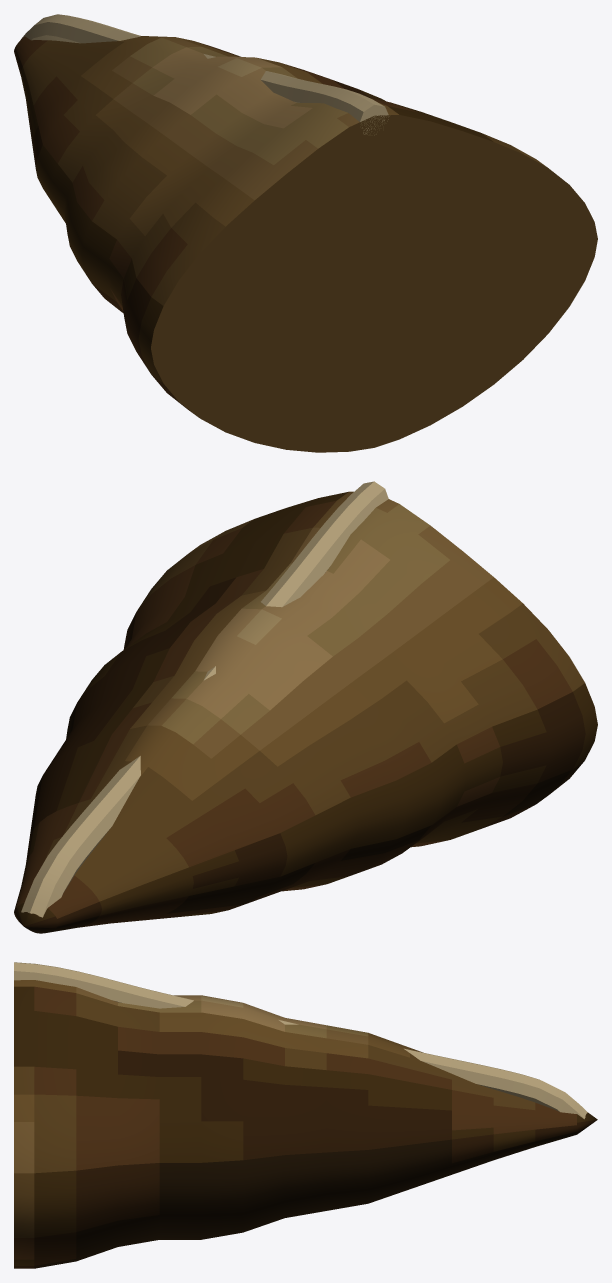
File: gyges_worm_head_tip.glb
3 renders of one model, top to bottom at view 1: azimuth 30°, elevation 25°; view 2: azimuth 150°, elevation 25°; view 3: azimuth 270°, elevation 25°, orthographic. The views are drawn at different scales.
Visible parts, largest first — view 1: gyges_worm_head_tip_worm_head, gyges_worm_head_tip_worm_head_ridge; view 2: gyges_worm_head_tip_worm_head, gyges_worm_head_tip_worm_head_ridge; view 3: gyges_worm_head_tip_worm_head, gyges_worm_head_tip_worm_head_ridge.
Part boxes in pixels (box(x1,y1,x2,y2)): gyges_worm_head_tip_worm_head: box(14, 36, 597, 452); gyges_worm_head_tip_worm_head_ridge: box(21, 14, 389, 135); gyges_worm_head_tip_worm_head: box(14, 491, 597, 933); gyges_worm_head_tip_worm_head_ridge: box(21, 481, 388, 917); gyges_worm_head_tip_worm_head: box(14, 980, 597, 1268); gyges_worm_head_tip_worm_head_ridge: box(14, 962, 587, 1119).
Size of the model in its own units: 10.3 by 7.55 by 13.99.
